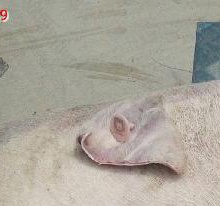text: (102, 103, 150, 148)
